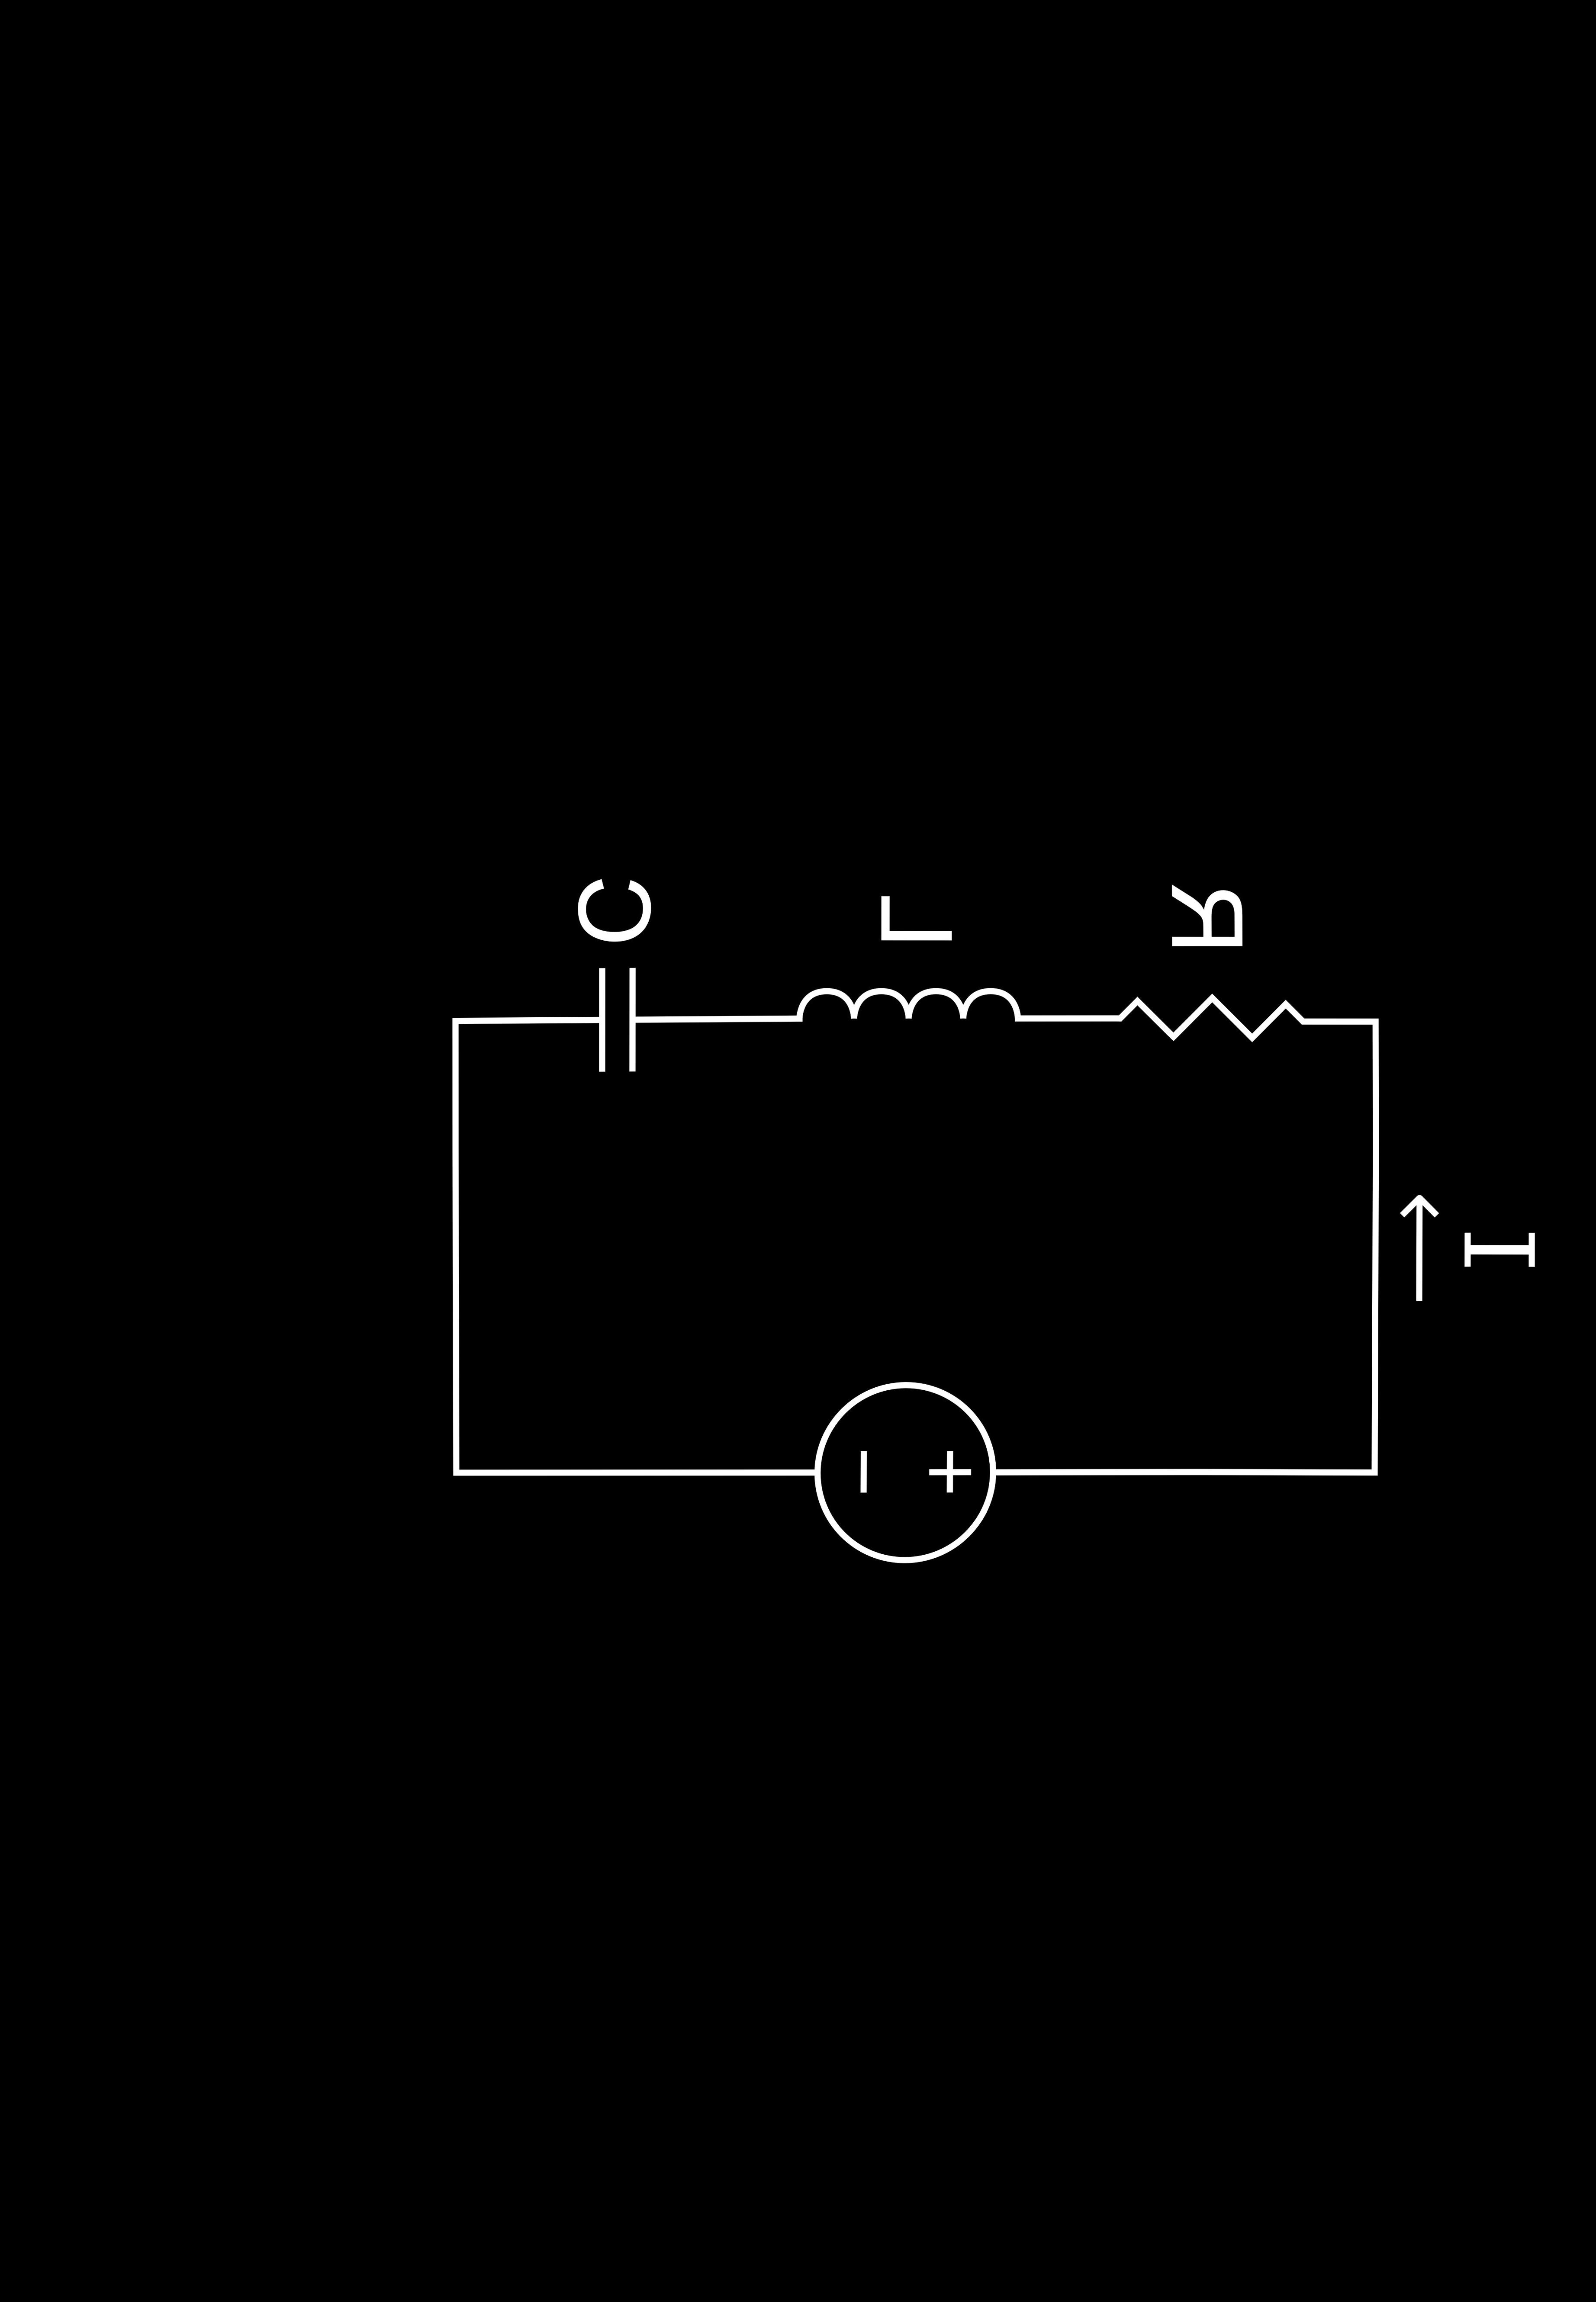Battery: (759, 1322, 1066, 1685)
